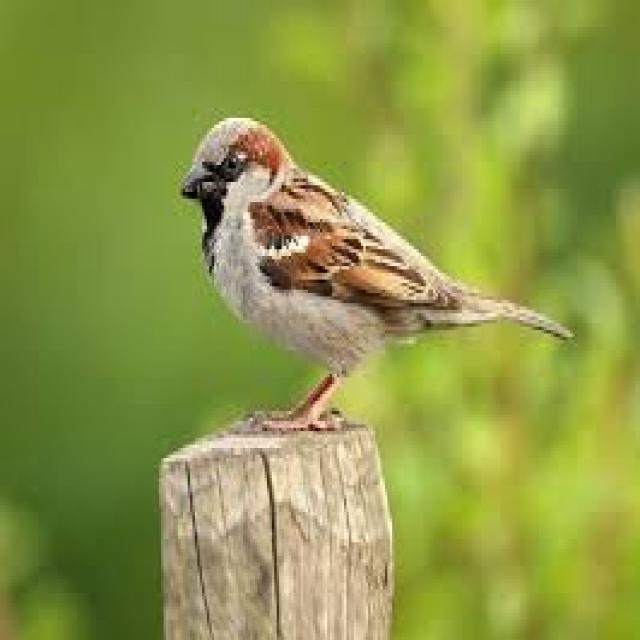bird: (181, 113, 578, 434)
